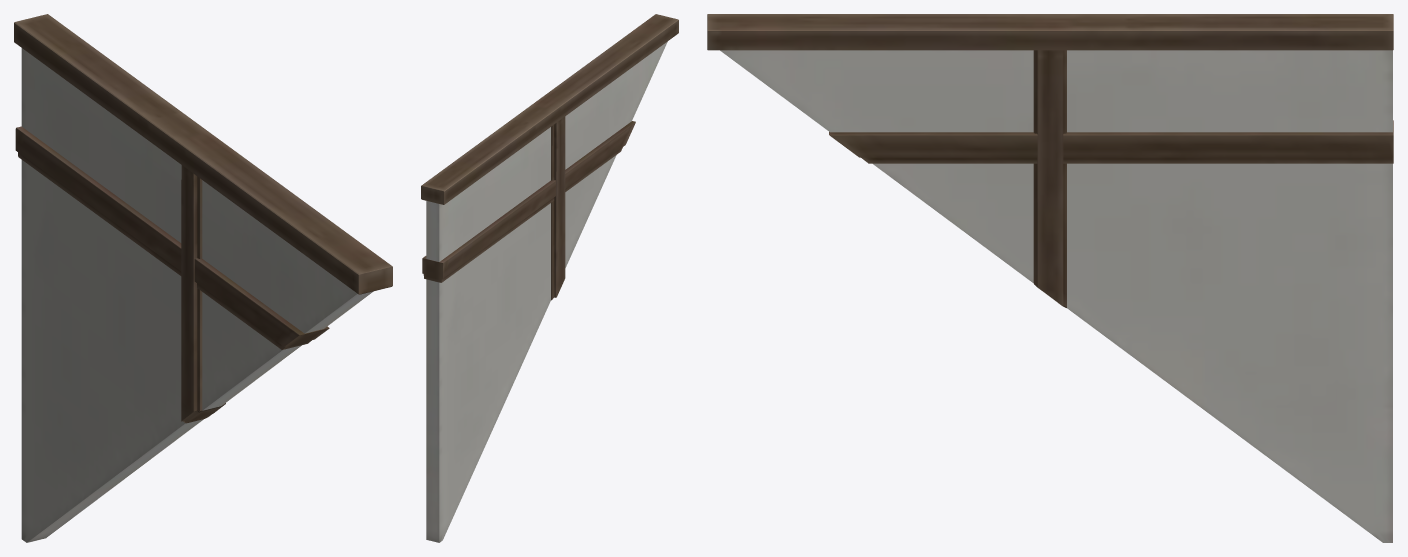
File: Architecture_JapaneseStyle_WallTryangleReverse_7836b1.glb
The picture shows the model from 3 angles, left to right: view 1: azimuth 30°, elevation 25°; view 2: azimuth 150°, elevation 25°; view 3: azimuth 270°, elevation 25°; orthographic projection. The views are drawn at different scales.
Size of the model in its own units: 0.2303 by 3.33 by 4.01.
Materials: 1 (1 with a texture image).
